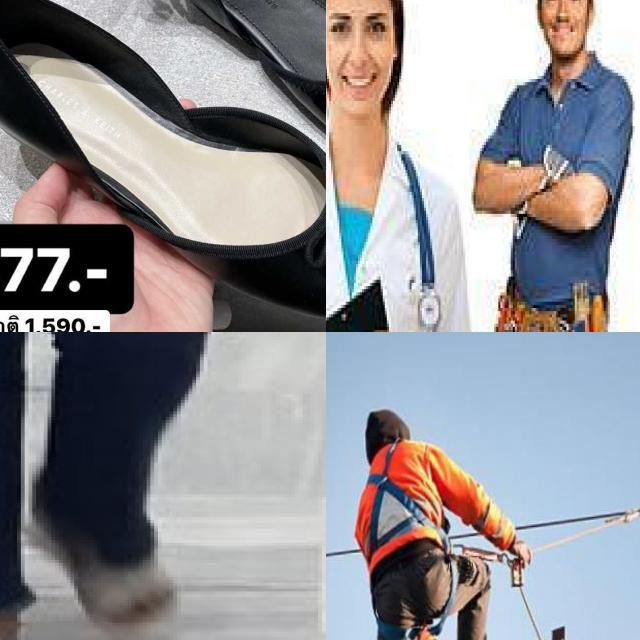Harness: (367, 443, 425, 552)
No_Ear-Protection: (326, 0, 407, 123), (530, 0, 595, 69)
Sandals: (0, 0, 326, 332), (21, 0, 326, 217)
